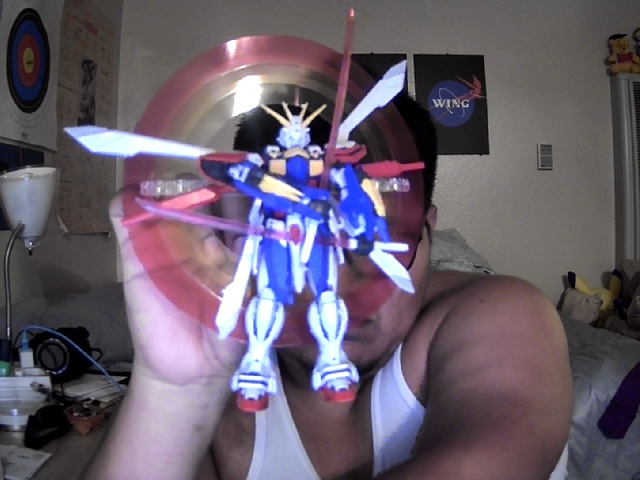God: (61, 33, 426, 413)
